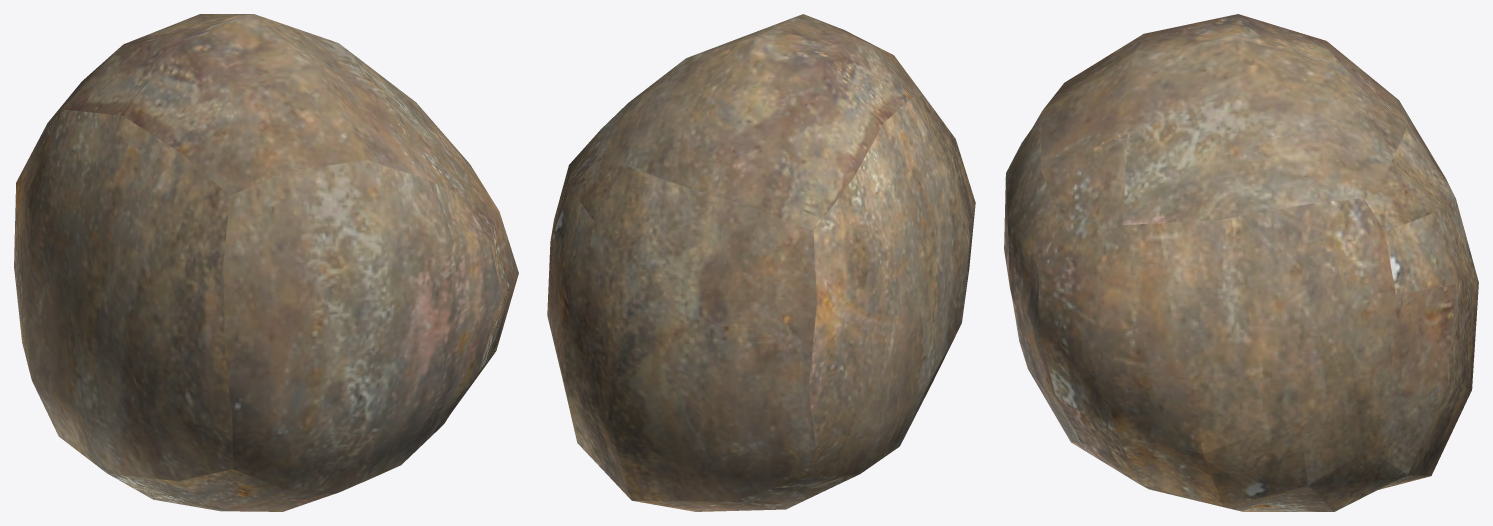
The model's file is rock.obj.
3 renders of one model, left to right at view 1: azimuth 30°, elevation 25°; view 2: azimuth 150°, elevation 25°; view 3: azimuth 270°, elevation 25°, orthographic. The views are drawn at different scales.
Visible parts, largest first — view 1: g0; view 2: g0; view 3: g0.
Part boxes in pixels (x1,y1,x2,y2): g0: [14, 14, 518, 511]; g0: [547, 14, 975, 511]; g0: [1004, 14, 1478, 511].
Size of the model in its own units: 1.64 by 1.91 by 1.81.
1 material, 1 textured.
